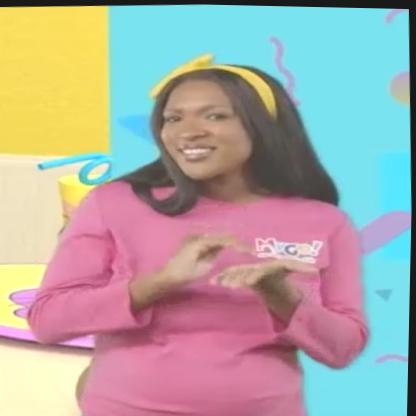ExcuseMe: (156, 219, 323, 309)
